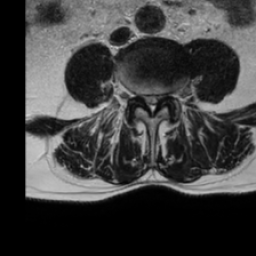CCS_normal: (147, 90, 154, 119)
LFS_severe_stenosis: (161, 88, 169, 107)
LLS_stenosis: (154, 89, 161, 108)
RFS_severe_stenosis: (135, 88, 143, 104)
RLS_severe_stenosis: (142, 89, 148, 108)
